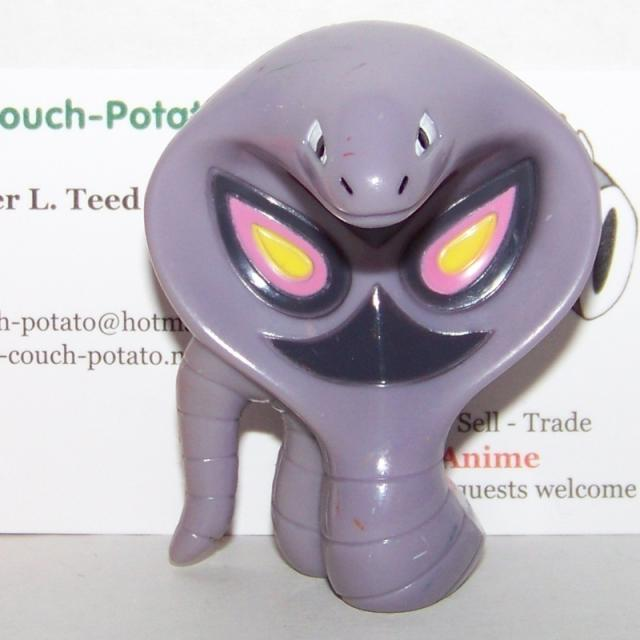Arbok: (149, 11, 591, 600)
